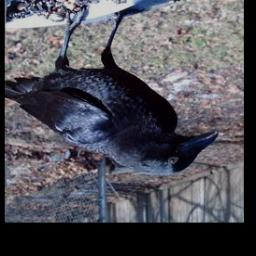Crow: (5, 6, 219, 176)
